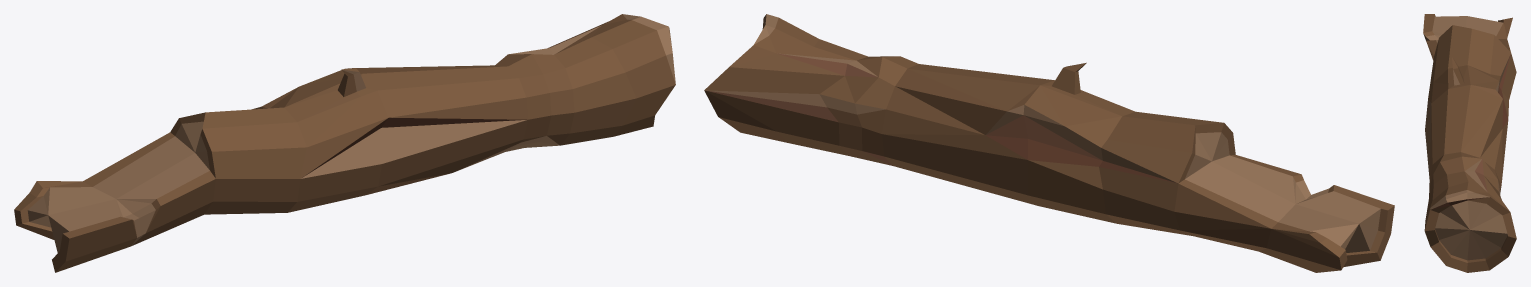
Rendered from mesh_log_02.fbx.
3 views of the same model, side by side, from view 1: azimuth 30°, elevation 25°; view 2: azimuth 150°, elevation 25°; view 3: azimuth 270°, elevation 25° (orthographic). The views are drawn at different scales.
Parts seen in each view (by area): view 1: mesh_log_02; view 2: mesh_log_02; view 3: mesh_log_02.
Boxes of the visible parts, left/top/right/bottom form: mesh_log_02: left=14, top=14, right=675, bottom=272; mesh_log_02: left=704, top=14, right=1394, bottom=272; mesh_log_02: left=1423, top=14, right=1516, bottom=272.
Bounding box in the file's own units: 1.55 × 0.3227 × 0.2668.
